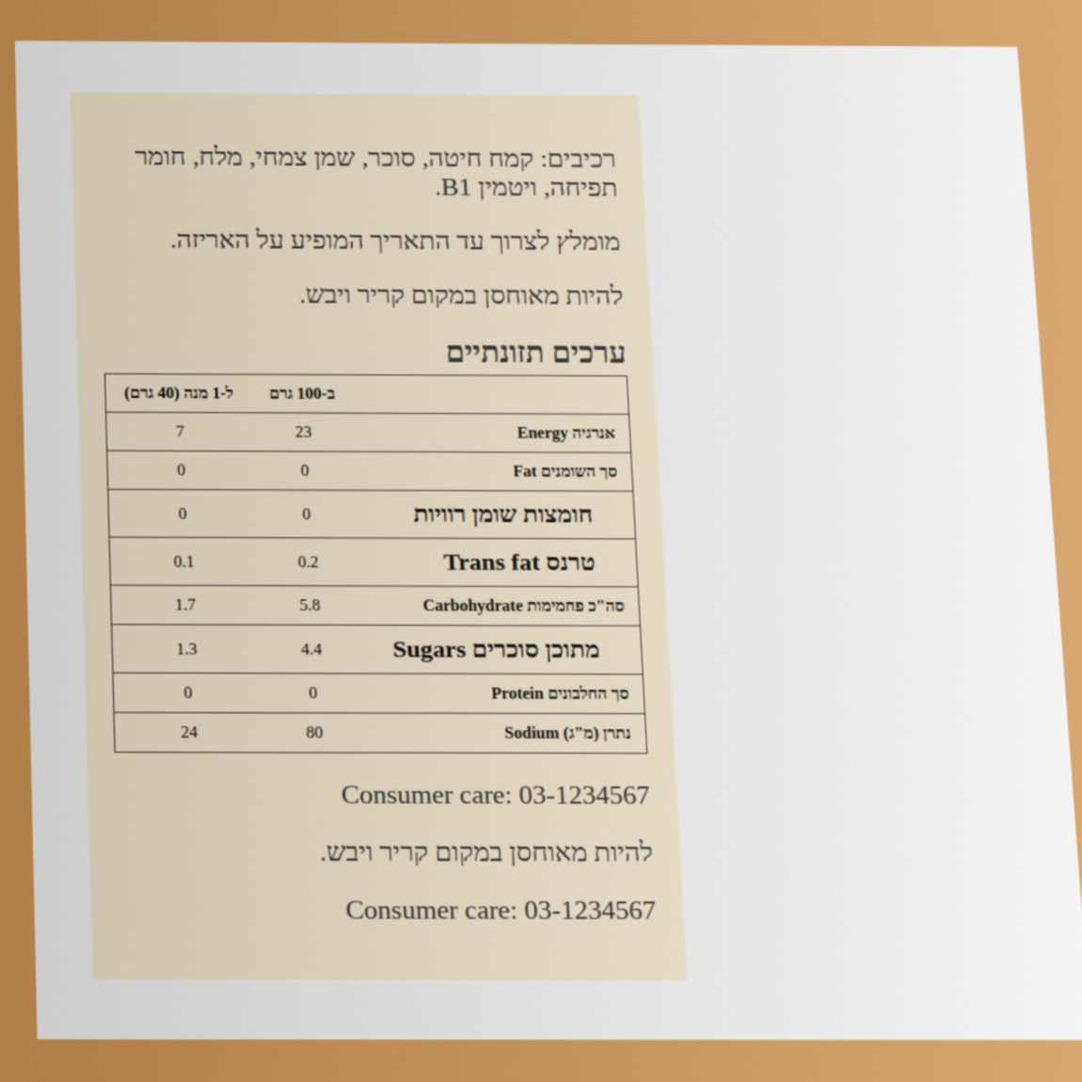carbs: (297, 594, 323, 616)
energy: (293, 421, 314, 442)
fat: (299, 460, 311, 481)
protein: (307, 682, 320, 703)
